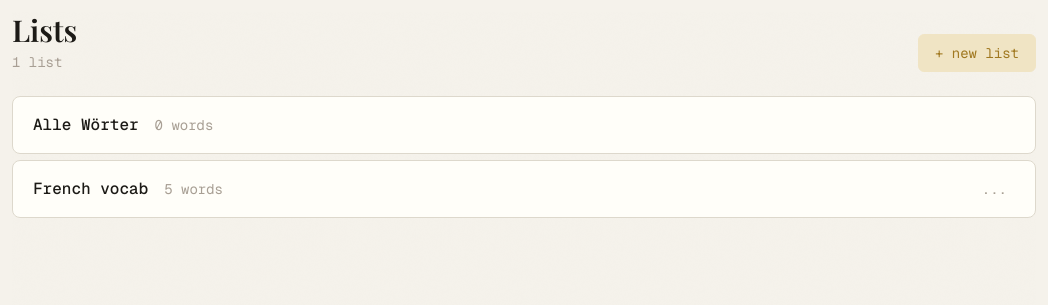
Test case: ListRow — dropdown open/close › clicking "..." opens the dropdown showing Rename and Delete
Click the button named "List options": (994, 189) [974, 177, 1015, 201]
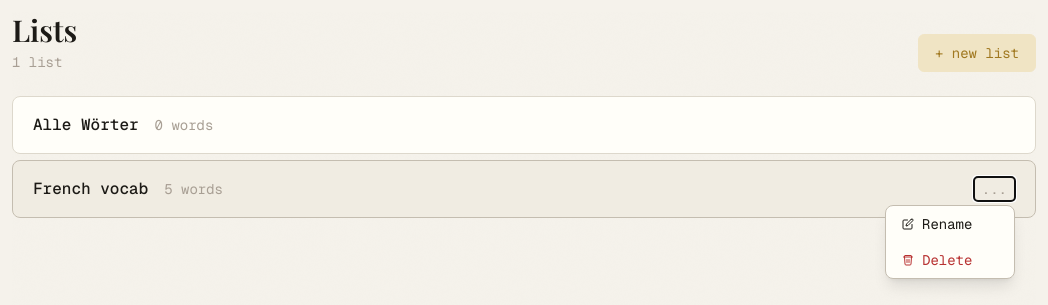
expect the button "Rename" is shown: met, box [886, 206, 1014, 242]
expect the button "Delete" is shown: met, box [886, 242, 1014, 278]
